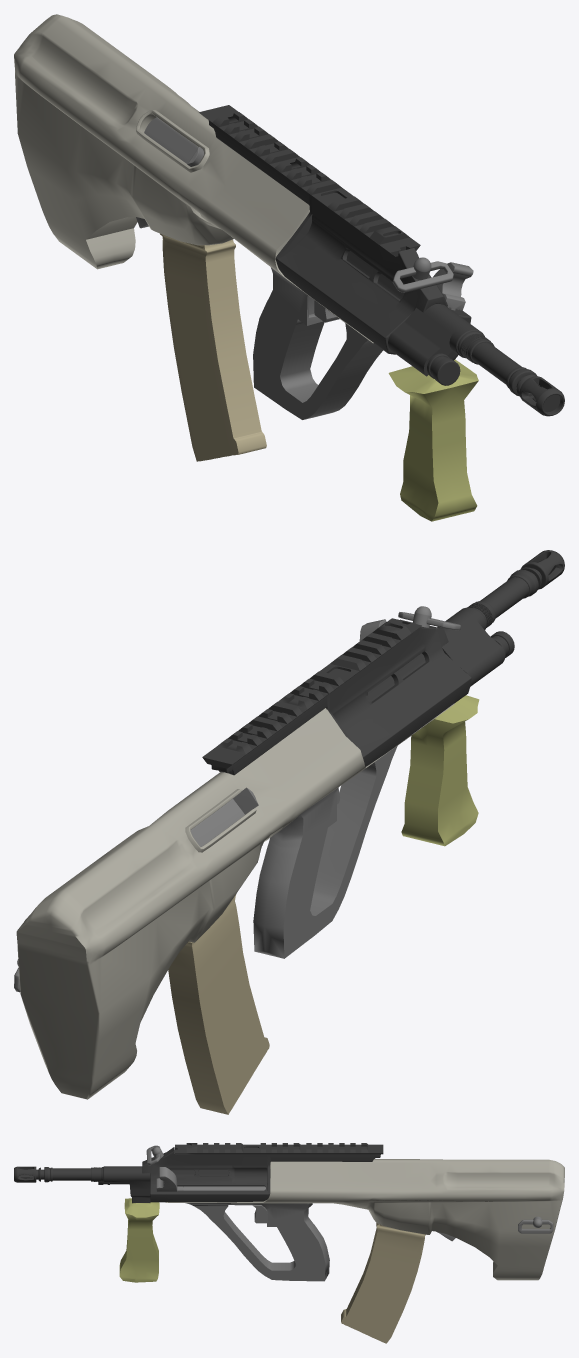
File: AUG_Low_PivotFixed.fbx
3 renders of one model, top to bottom at view 1: azimuth 30°, elevation 25°; view 2: azimuth 150°, elevation 25°; view 3: azimuth 270°, elevation 25°, orthographic. The views are drawn at different scales.
Parts seen in each view (by area): view 1: body_low, mag_low, eject_low, bolt_low; view 2: body_low, mag_low, eject_low; view 3: body_low, mag_low, bolt_low.
Part boxes in pixels (<box>): body_low: <box>14,14,564,521</box>; mag_low: <box>160,233,266,461</box>; eject_low: <box>144,117,203,166</box>; bolt_low: <box>433,262,473,310</box>; body_low: <box>14,550,564,1099</box>; mag_low: <box>168,894,269,1114</box>; eject_low: <box>190,787,258,846</box>; body_low: <box>14,1143,564,1282</box>; mag_low: <box>341,1223,425,1343</box>; bolt_low: <box>156,1167,265,1191</box>.
Size of the model in its own units: 7.09 by 23.69 by 60.89.
